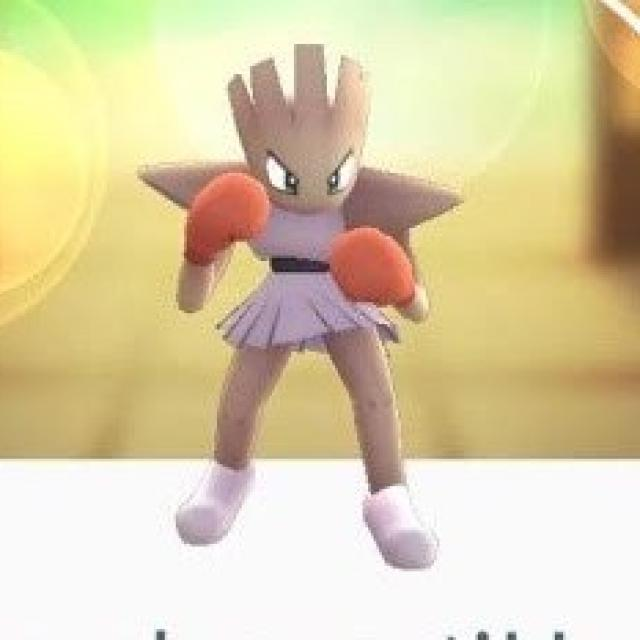Hitmonchan: (144, 34, 480, 587)
